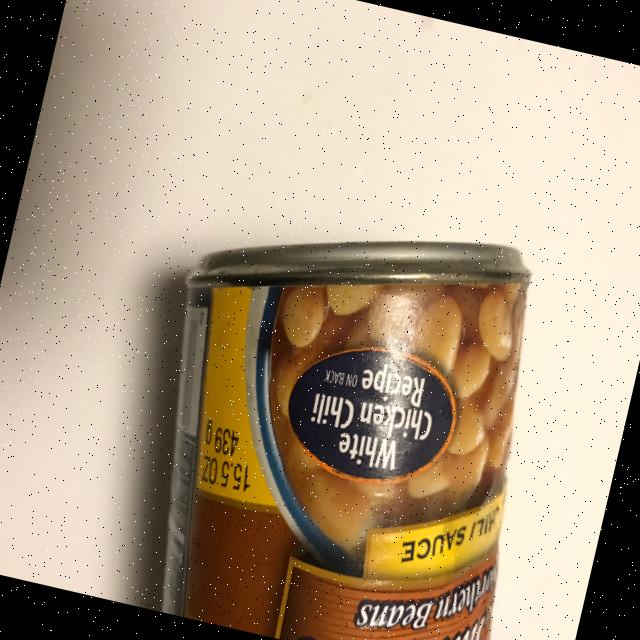metal: (110, 175, 582, 640)
